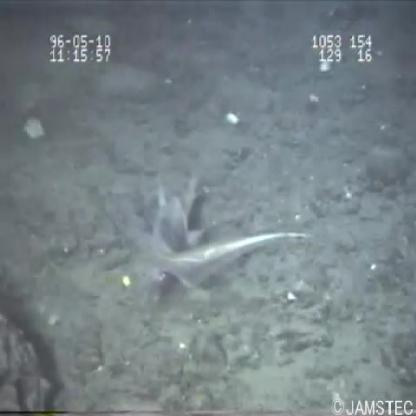Bio: (110, 166, 320, 300)
